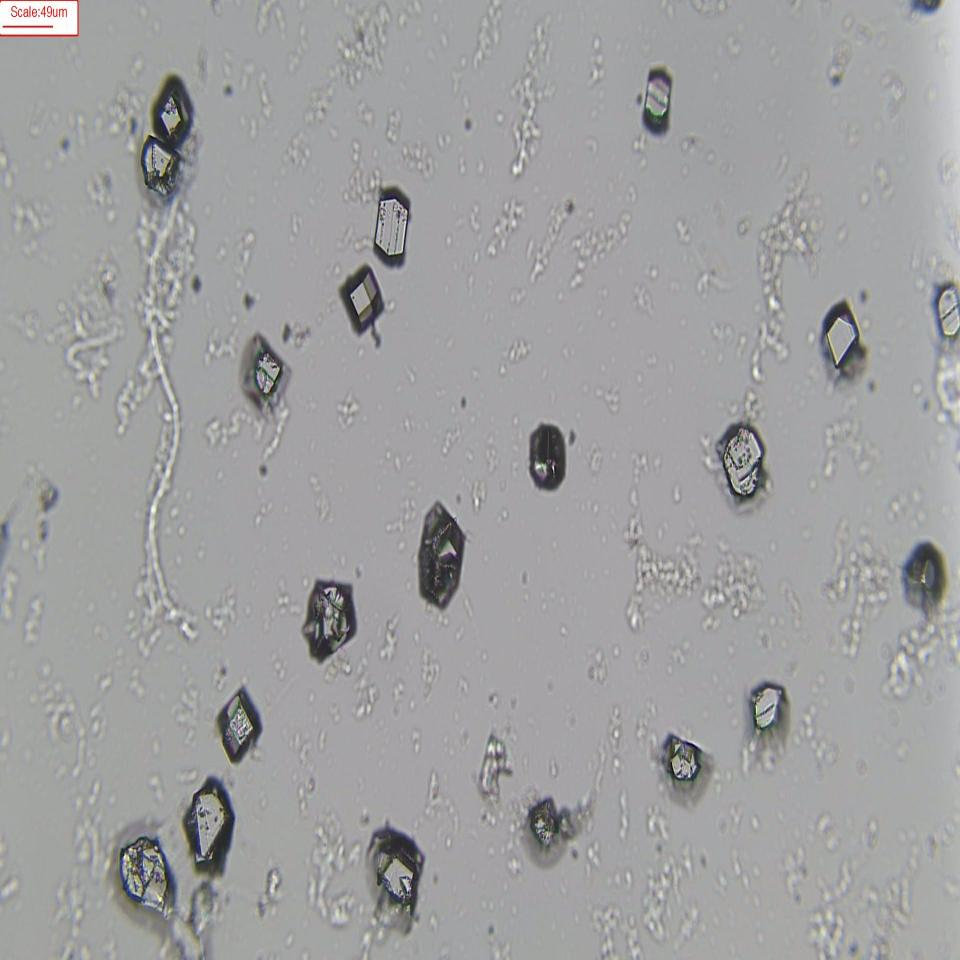crystal: (363, 821, 423, 936), (299, 576, 366, 658), (181, 784, 239, 878), (117, 837, 180, 917), (418, 500, 462, 613), (716, 421, 766, 505), (898, 540, 942, 613), (374, 188, 412, 270), (816, 304, 858, 378), (241, 338, 284, 406), (657, 729, 703, 792), (219, 688, 258, 758), (340, 267, 386, 325), (154, 76, 191, 148), (143, 135, 180, 204), (530, 425, 569, 490), (641, 64, 677, 134), (929, 278, 960, 347), (749, 684, 789, 734), (528, 793, 561, 853)
